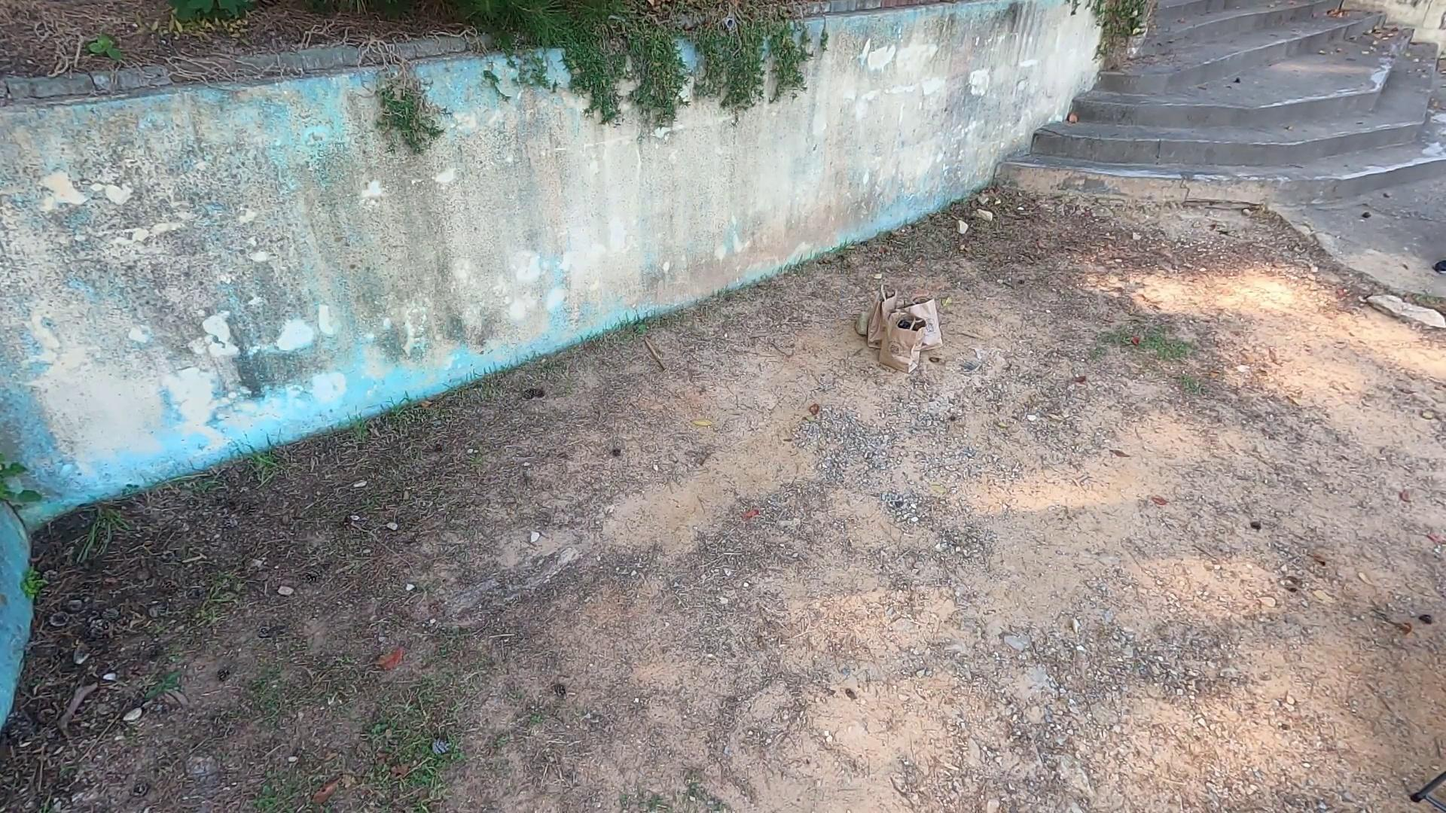trash: (883, 303, 927, 379), (900, 285, 948, 354), (871, 280, 900, 341)
